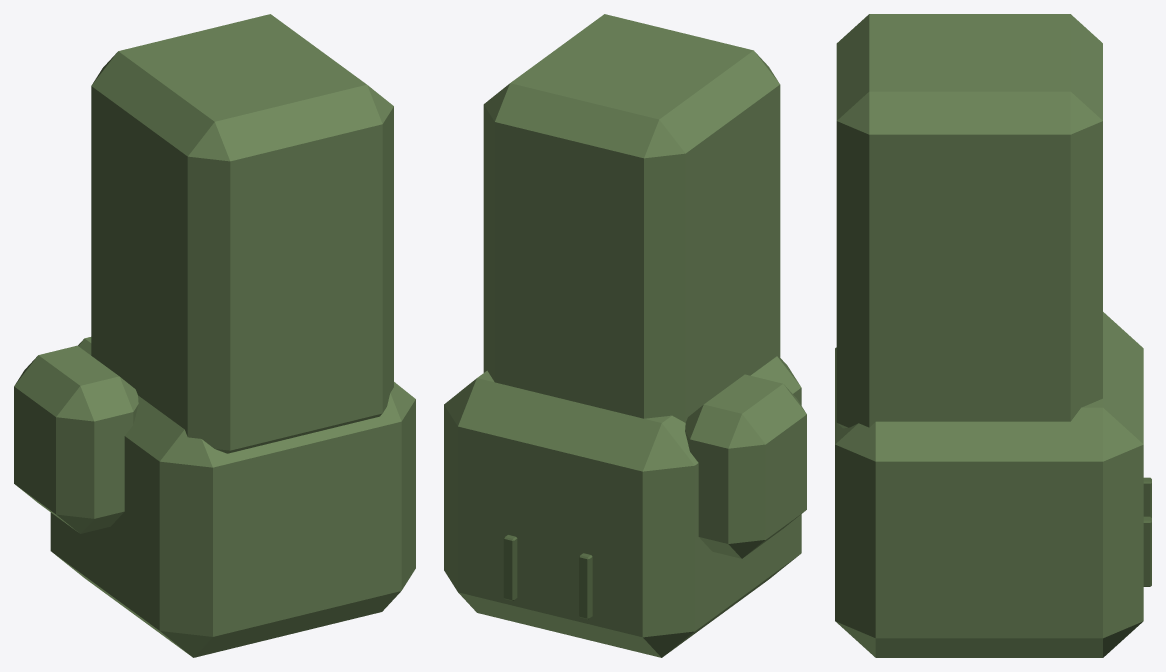
The model's file is ForearmRight.glb.
3 views of the same model, side by side, from view 1: azimuth 30°, elevation 25°; view 2: azimuth 150°, elevation 25°; view 3: azimuth 270°, elevation 25° (orthographic). The views are drawn at different scales.
Visible parts, largest first — view 1: Sculpture; view 2: Sculpture; view 3: Sculpture.
Part boxes in pixels (box(x1,y1,x2,y2)): Sculpture: box(14, 14, 415, 657); Sculpture: box(444, 14, 806, 657); Sculpture: box(835, 14, 1151, 657).
Size of the model in its own units: 0.2305 by 0.3785 by 0.195.
